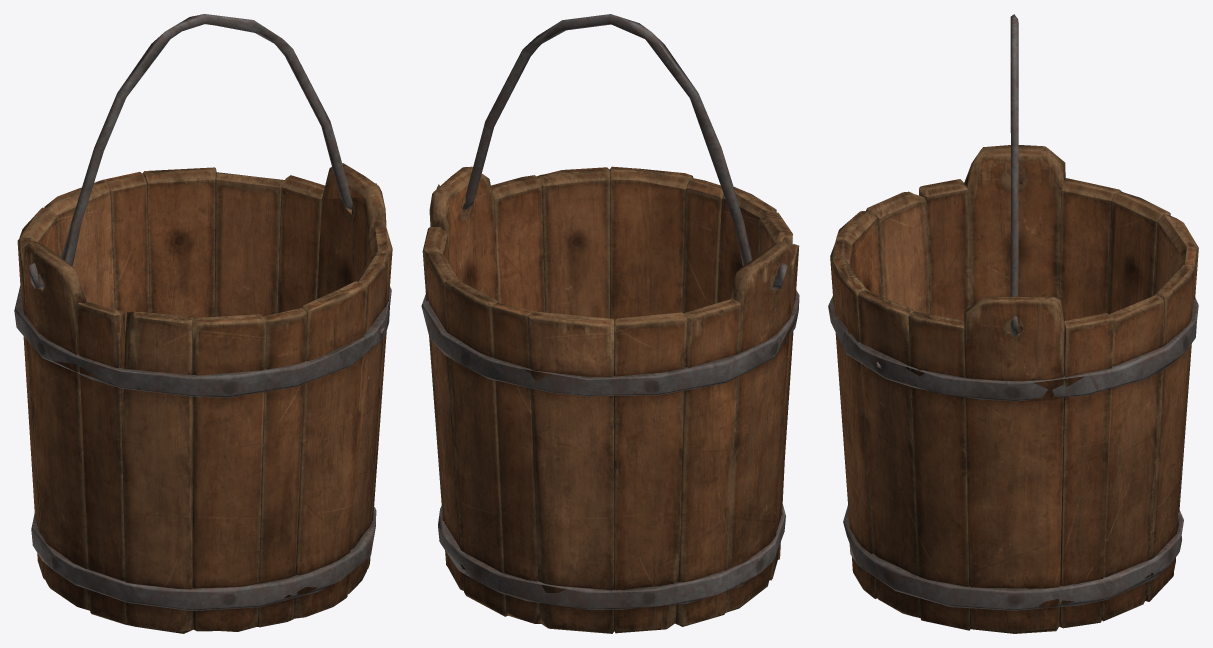
Rendered from wooden_bucket_01_lod2.glb.
3 views of the same model, side by side, from view 1: azimuth 30°, elevation 25°; view 2: azimuth 150°, elevation 25°; view 3: azimuth 270°, elevation 25° (orthographic).
Visible parts, largest first — view 1: wooden_bucket_01, wooden_bucket_01_handle; view 2: wooden_bucket_01, wooden_bucket_01_handle; view 3: wooden_bucket_01, wooden_bucket_01_handle.
Boxes of the visible parts, left/top/right/bottom form: wooden_bucket_01: left=14, top=163, right=392, bottom=633; wooden_bucket_01_handle: left=28, top=14, right=376, bottom=288; wooden_bucket_01: left=421, top=166, right=799, bottom=633; wooden_bucket_01_handle: left=436, top=14, right=787, bottom=289; wooden_bucket_01: left=828, top=145, right=1198, bottom=633; wooden_bucket_01_handle: left=1010, top=14, right=1018, bottom=335.
Size of the model in its own units: 0.3663 by 0.5493 by 0.3419.
1 material, 1 textured.
